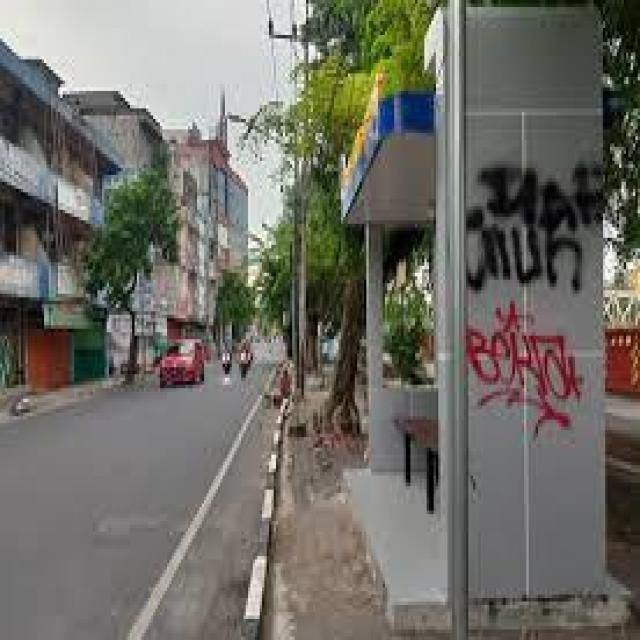nonspitting: (464, 161, 604, 296), (466, 297, 584, 439)
